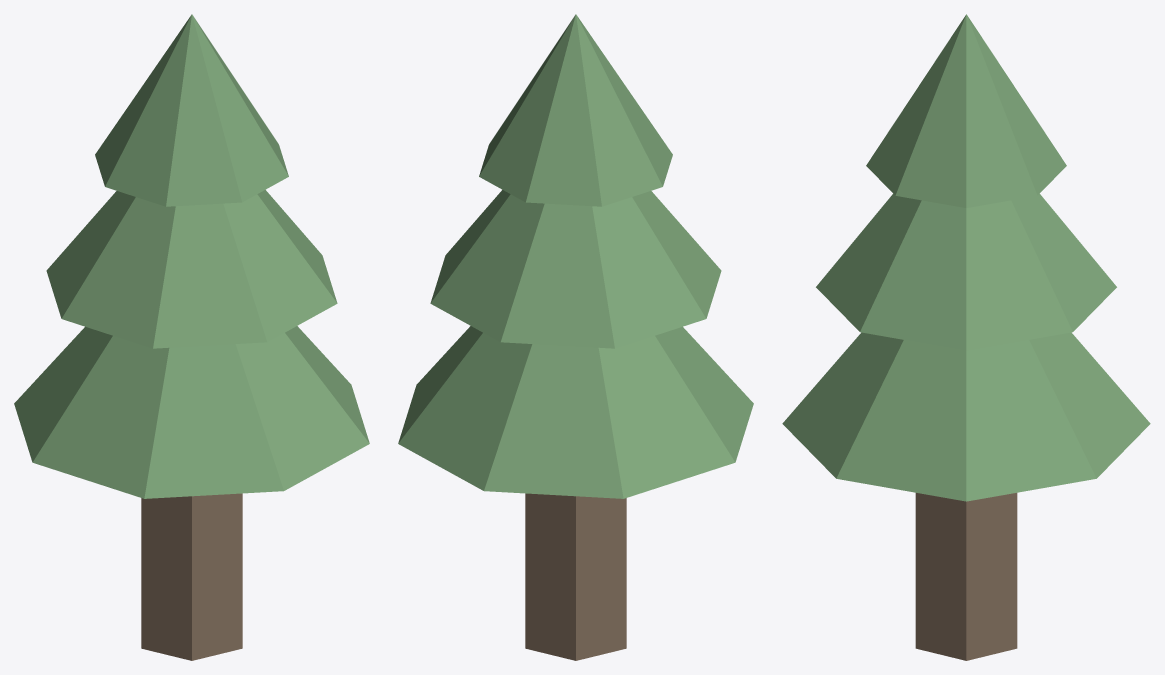
3 renders of one model, left to right at view 1: azimuth 30°, elevation 25°; view 2: azimuth 150°, elevation 25°; view 3: azimuth 270°, elevation 25°, orthographic.
Visible parts, largest first — view 1: part1, part2, part3, part0; view 2: part1, part2, part3, part0; view 3: part1, part2, part3, part0.
Boxes of the visible parts, x1=… form: part1: x1=14, y1=326, x2=369, y2=498; part2: x1=46, y1=190, x2=337, y2=348; part3: x1=95, y1=14, x2=288, y2=206; part0: x1=141, y1=493, x2=242, y2=660; part1: x1=398, y1=326, x2=753, y2=498; part2: x1=430, y1=190, x2=721, y2=348; part3: x1=479, y1=14, x2=672, y2=206; part0: x1=525, y1=493, x2=626, y2=660; part1: x1=782, y1=332, x2=1150, y2=501; part2: x1=816, y1=193, x2=1116, y2=350; part3: x1=866, y1=14, x2=1066, y2=207; part0: x1=915, y1=493, x2=1017, y2=660.
Size of the model in its own units: 2.2 by 4.1 by 2.2.
